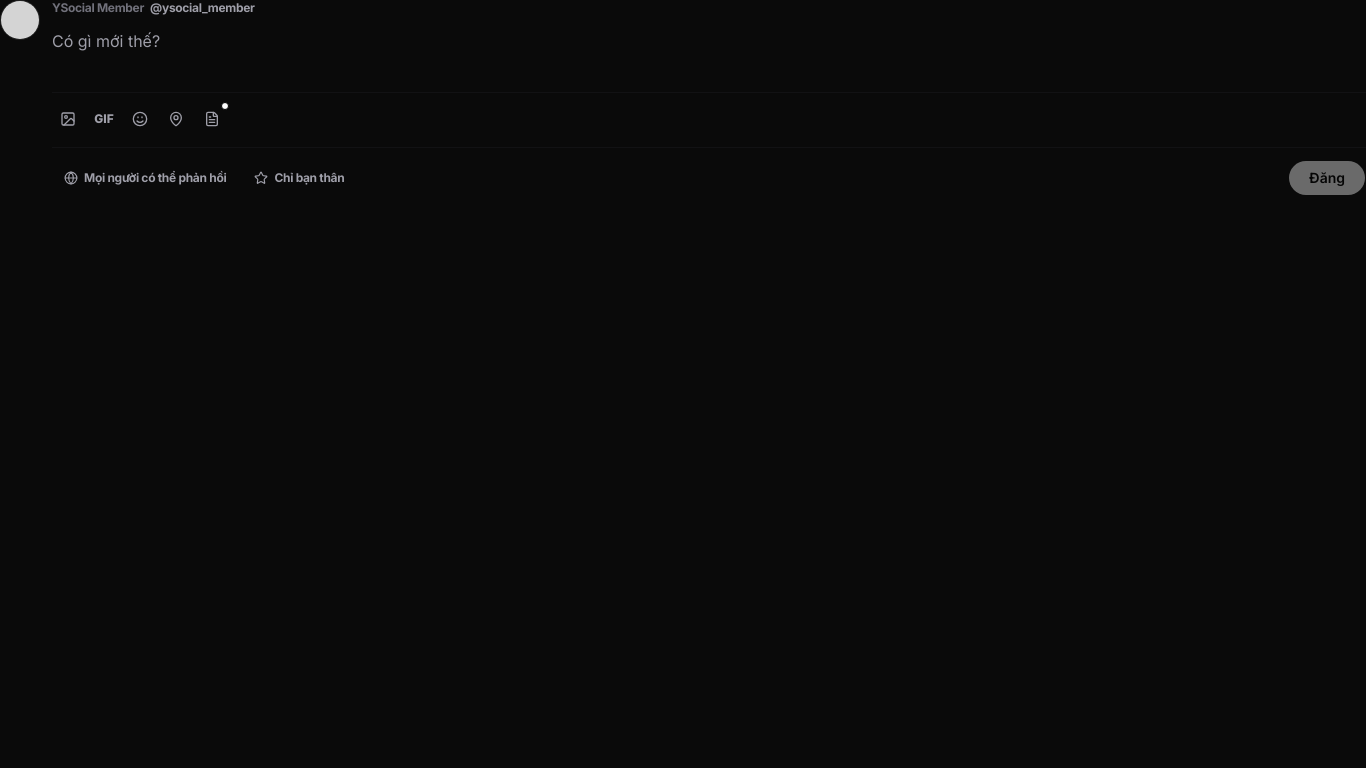
it: PostCreatorCore close friends visibility › restores a draft without visibility as public, even if the chip was on
Click the button "Chỉ bạn thân" at (299, 178), box x1=242 y1=162 x2=356 y2=194
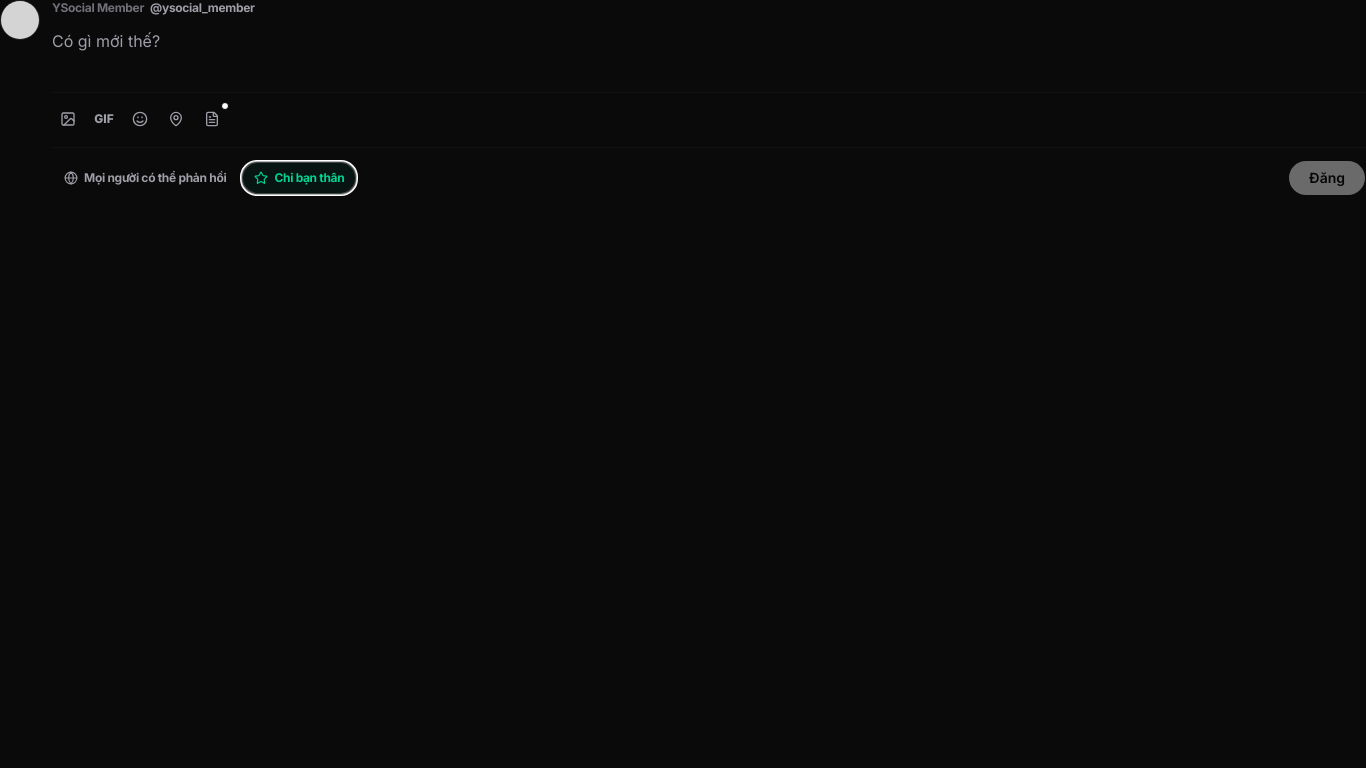
Click the button titled "Bản nháp" at (212, 119), box x1=196 y1=103 x2=228 y2=135
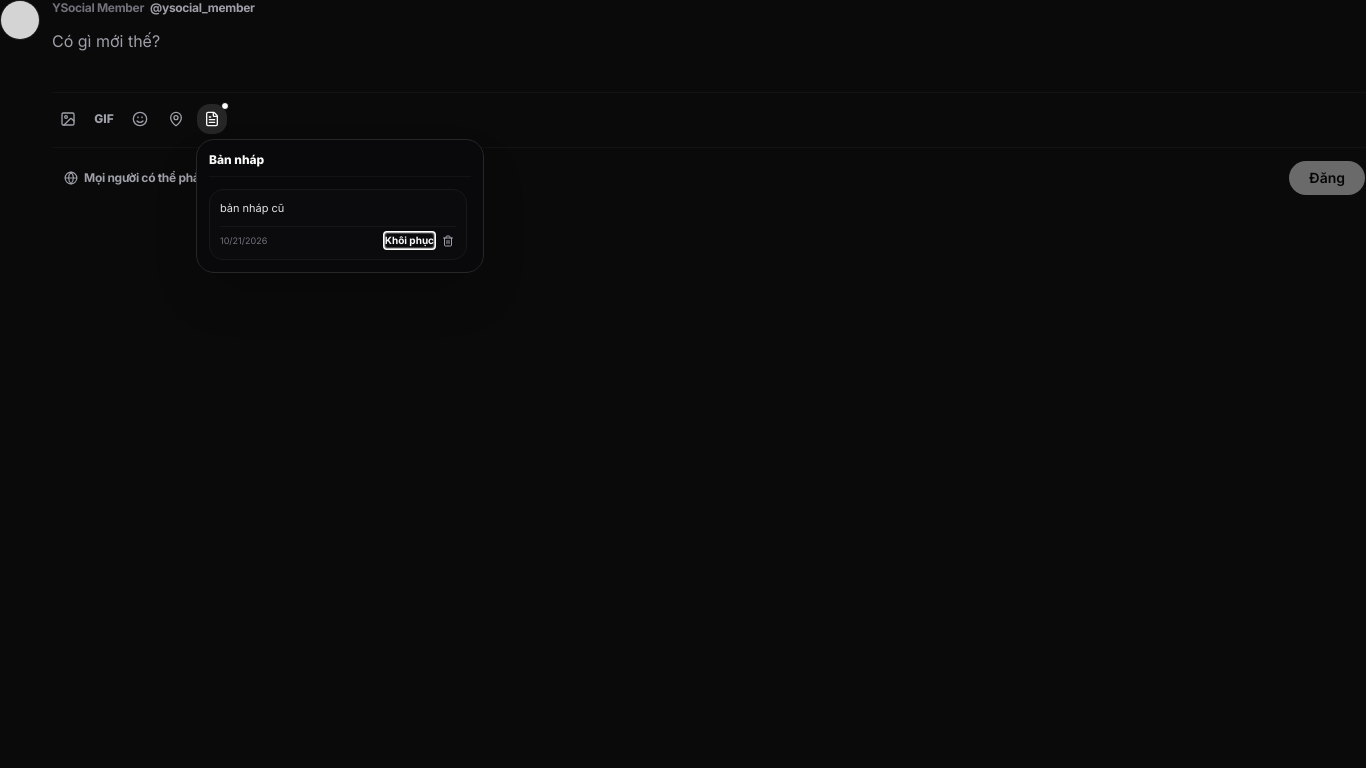
Click the button "Khôi phục" at (409, 241), box x1=385 y1=233 x2=434 y2=248
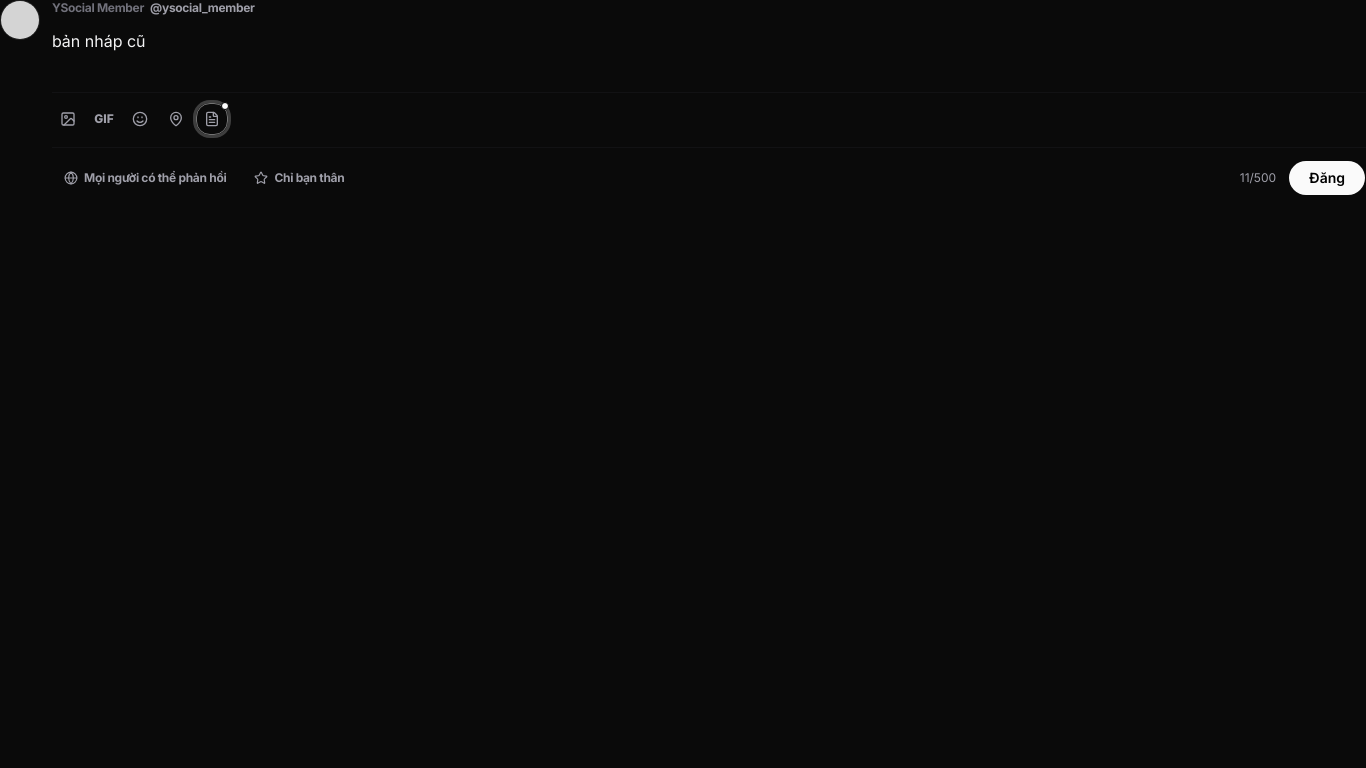
Result: the text box holds "bản nháp cũ" at x1=52 y1=24 x2=1365 y2=84
